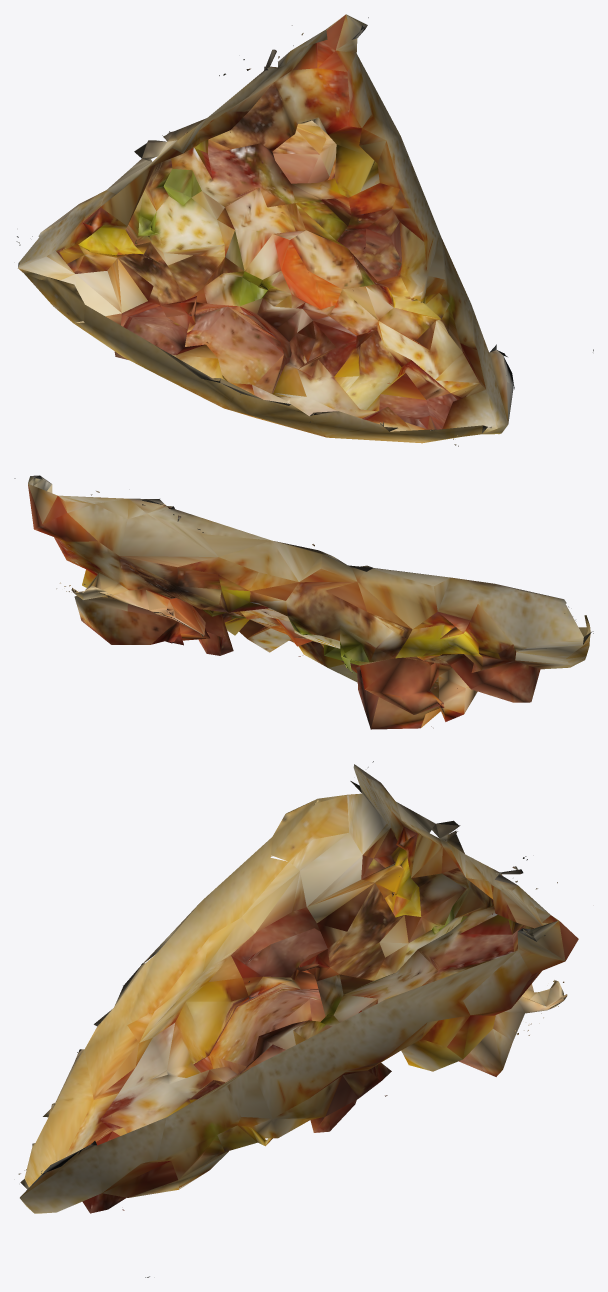
File: pizza_1709.obj
The picture shows the model from 3 angles, top to bottom: view 1: azimuth 30°, elevation 25°; view 2: azimuth 150°, elevation 25°; view 3: azimuth 270°, elevation 25°; orthographic projection. The views are drawn at different scales.
Bounding box in the file's own units: 1.61 × 0.8225 × 1.27.
Materials: 1 (1 with a texture image).
